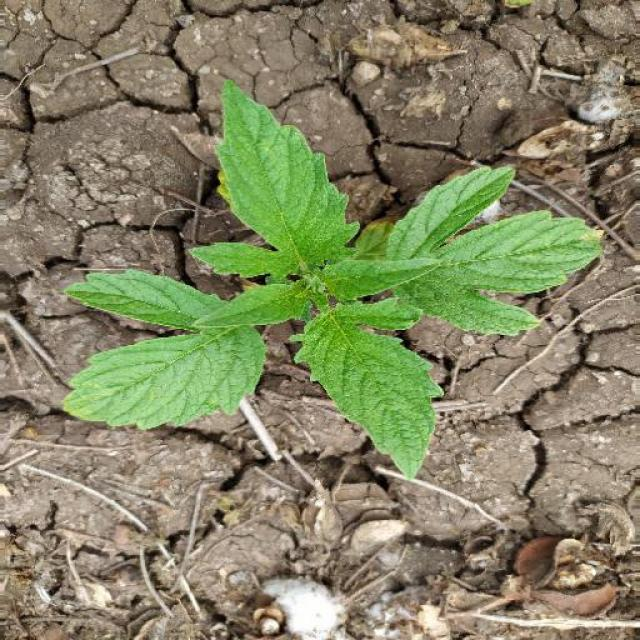crop: (57, 81, 612, 496)
